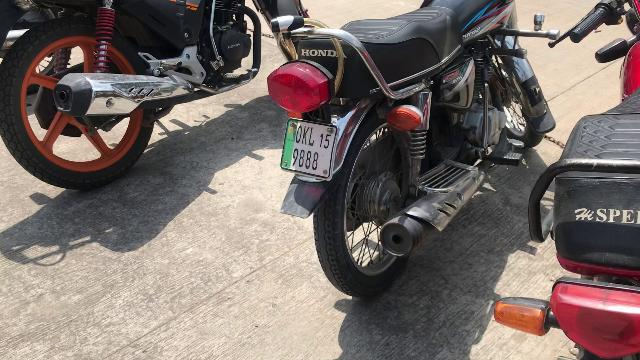plate: (278, 115, 336, 179)
